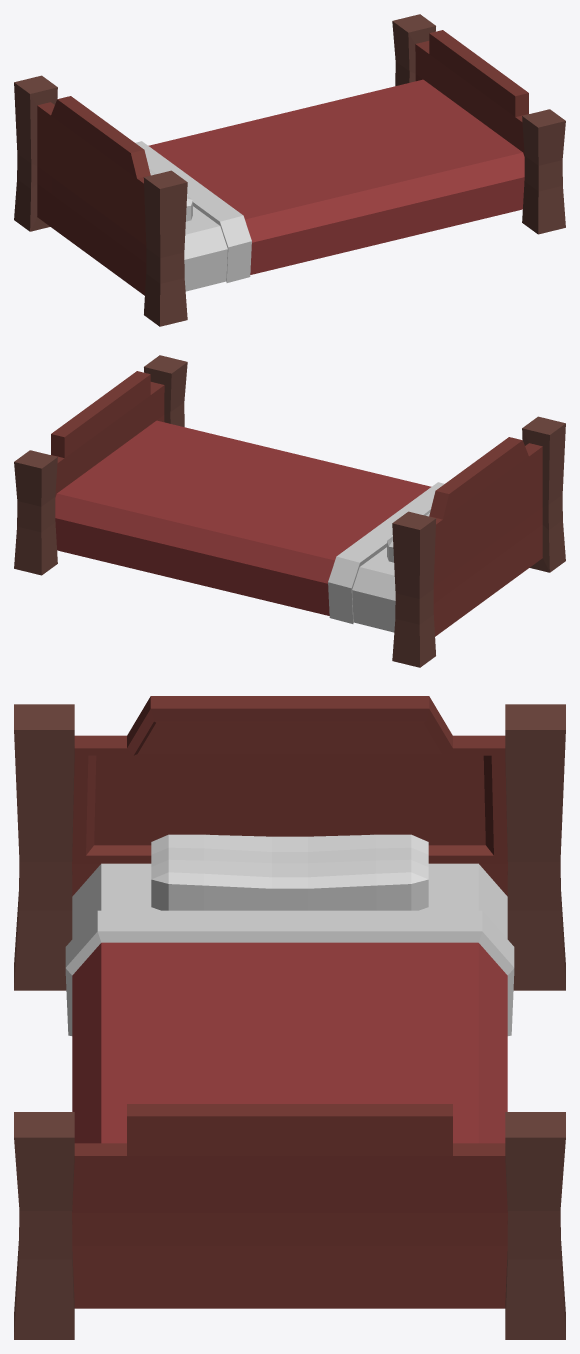
Rendered from Bed.glb.
The picture shows the model from 3 angles, top to bottom: view 1: azimuth 30°, elevation 25°; view 2: azimuth 150°, elevation 25°; view 3: azimuth 270°, elevation 25°; orthographic projection. The views are drawn at different scales.
Visible parts, largest first — view 1: Bed; view 2: Bed; view 3: Bed.
Boxes of the visible parts, x1,y1,x2,y2 form: Bed: [14, 14, 565, 326]; Bed: [14, 355, 565, 667]; Bed: [14, 696, 565, 1339].
Bounding box in the file's own units: 1.43 × 0.4898 × 0.8898.
